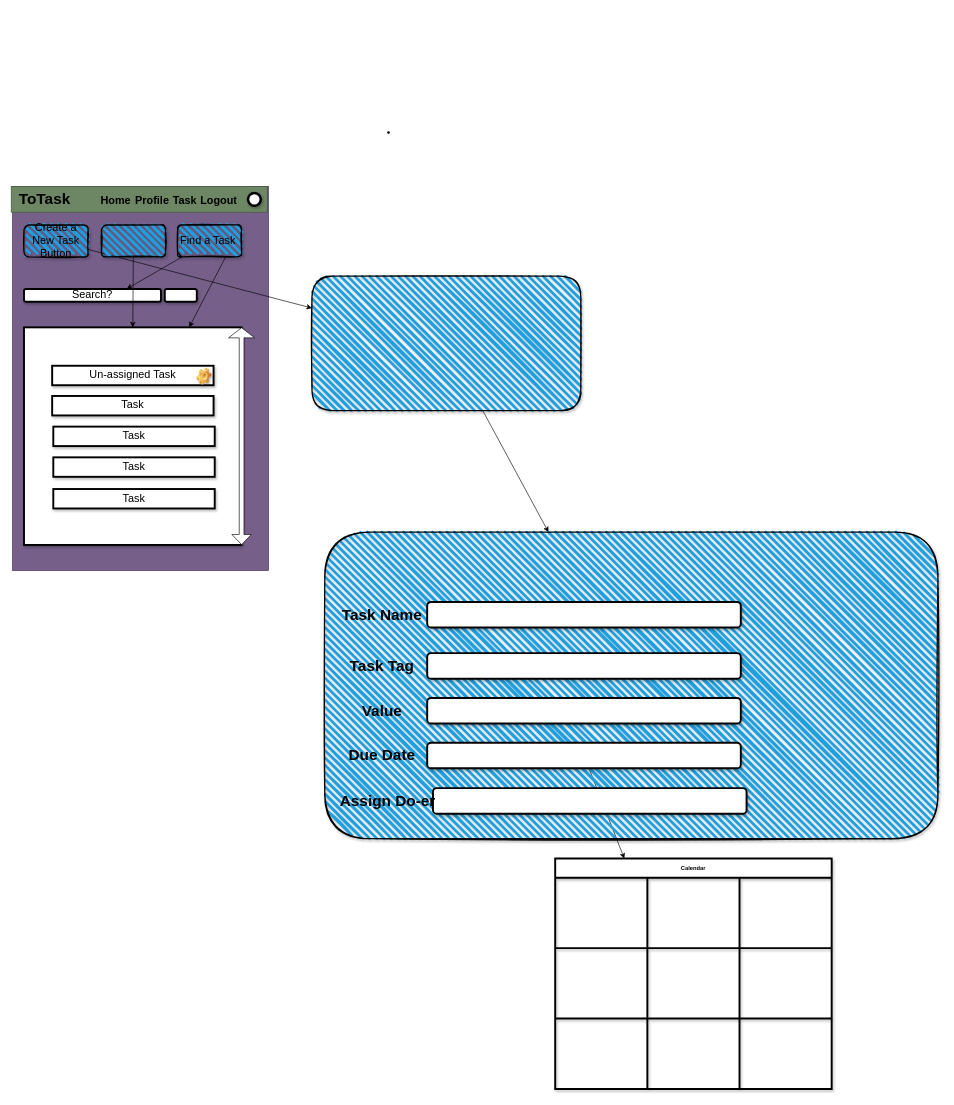
Some shapes in this 954 by 1105 pixel diagram are drawn without their labels. Here are the shapes that lost their labels. From the top down, the centre of each, then its label:
At point (255, 200): "Your Face Here".
At point (134, 241): "My Tasks".
At point (181, 296): "Task Filter".
At point (446, 344): "New Task Form Modal?".
